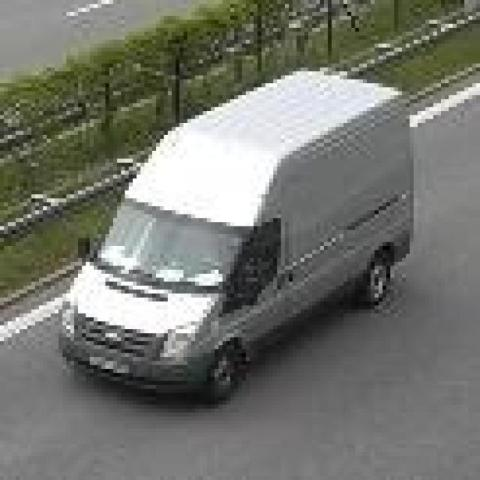van: (56, 68, 412, 405)
